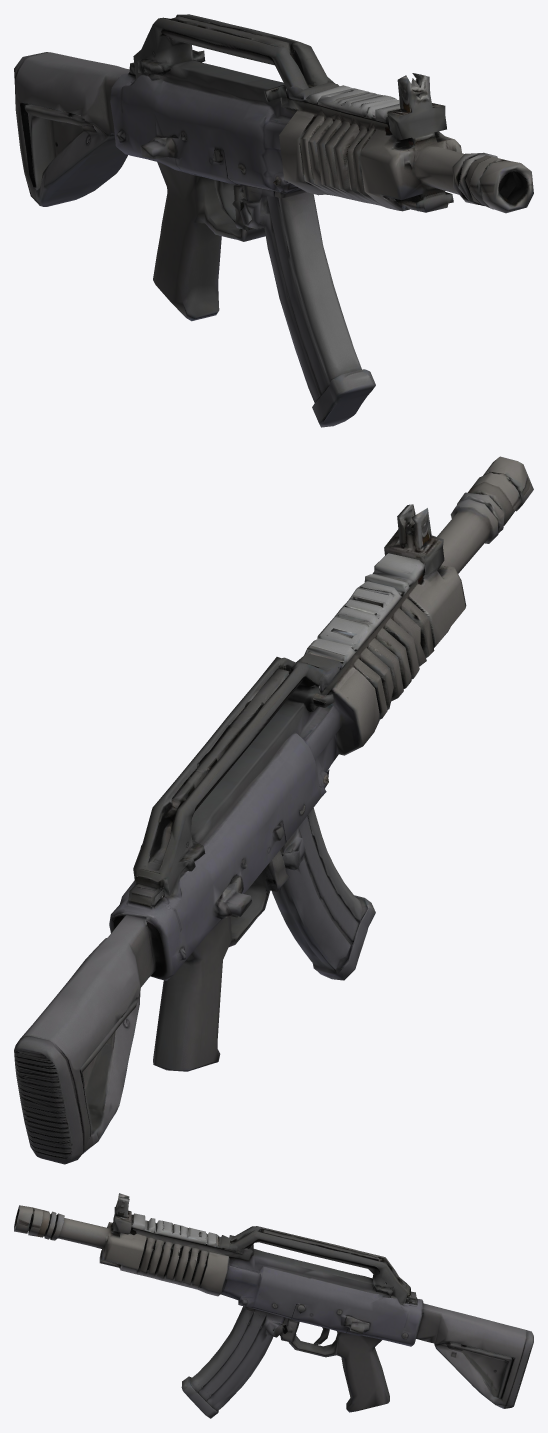
3 renders of one model, top to bottom at view 1: azimuth 30°, elevation 25°; view 2: azimuth 150°, elevation 25°; view 3: azimuth 270°, elevation 25°, orthographic. The views are drawn at different scales.
Visible parts, largest first — view 1: tripo_node_e377c1bc-795f-4868-b336-eb456c6ef95c; view 2: tripo_node_e377c1bc-795f-4868-b336-eb456c6ef95c; view 3: tripo_node_e377c1bc-795f-4868-b336-eb456c6ef95c.
Part boxes in pixels (<box>): tripo_node_e377c1bc-795f-4868-b336-eb456c6ef95c: <box>14,14,533,427</box>; tripo_node_e377c1bc-795f-4868-b336-eb456c6ef95c: <box>14,456,533,1164</box>; tripo_node_e377c1bc-795f-4868-b336-eb456c6ef95c: <box>14,1193,533,1418</box>.
Bounding box in the file's own units: 0.1192 × 0.4696 × 1.
Materials: 1 (1 with a texture image).
